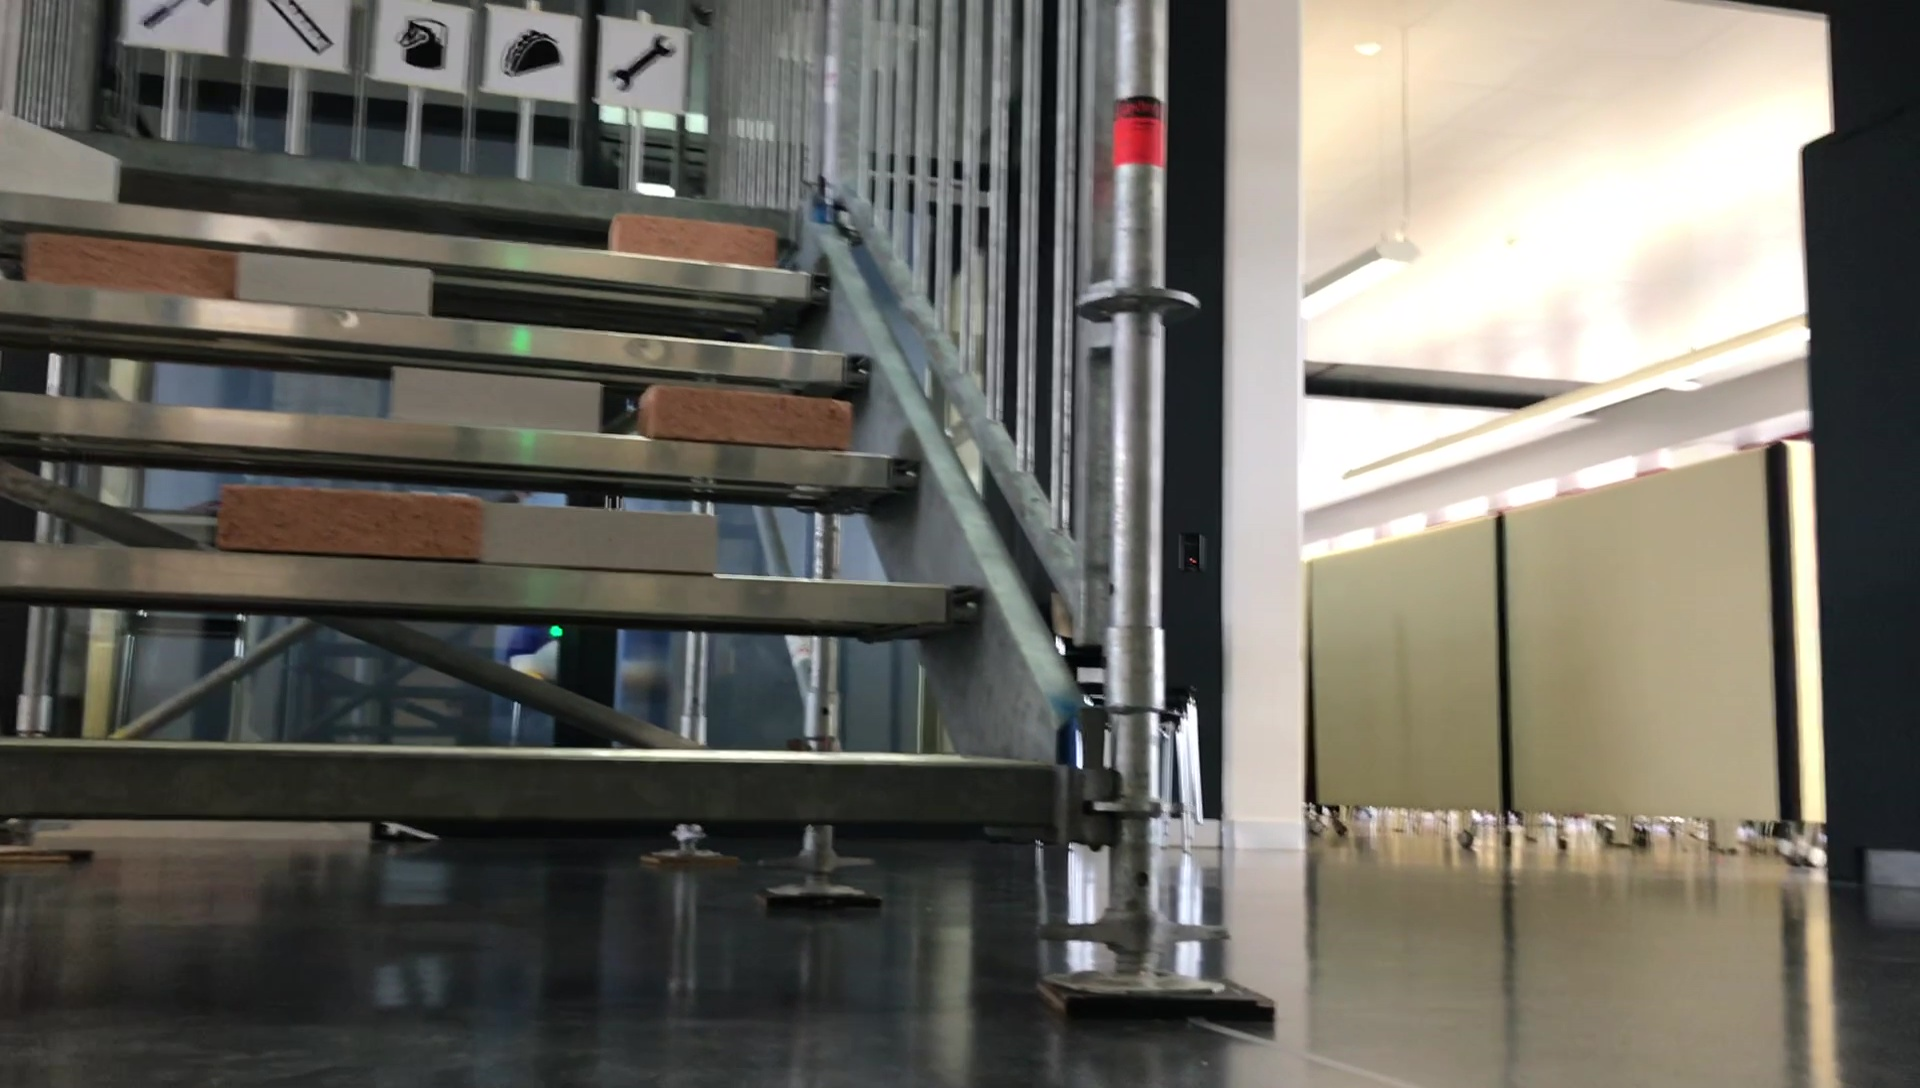brick: (208, 475, 468, 555), (396, 361, 599, 437), (469, 508, 731, 563), (642, 378, 848, 448), (245, 251, 444, 299), (24, 245, 233, 291), (609, 211, 790, 261), (609, 36, 675, 95)
bucket: (396, 9, 464, 73)
edge: (0, 750, 1083, 808), (9, 214, 808, 268), (0, 419, 926, 462), (0, 572, 1007, 608), (0, 311, 862, 347)
ruler: (268, 0, 334, 51)
stairs: (0, 0, 1167, 1002)
steps: (0, 128, 1096, 852)
taco: (508, 26, 568, 73)
